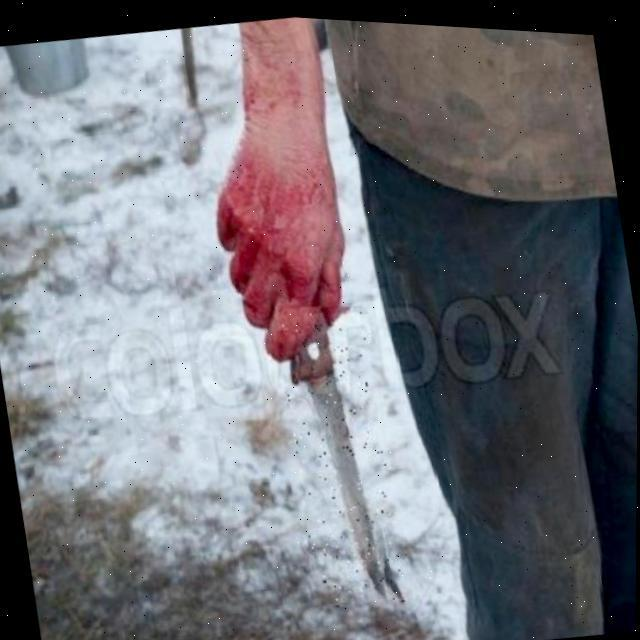knife: (274, 295, 410, 610)
